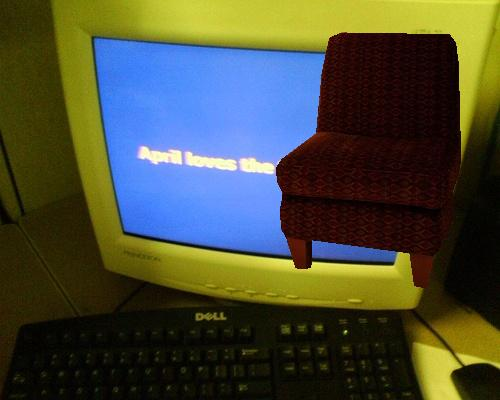tampered: (277, 33, 461, 288)
